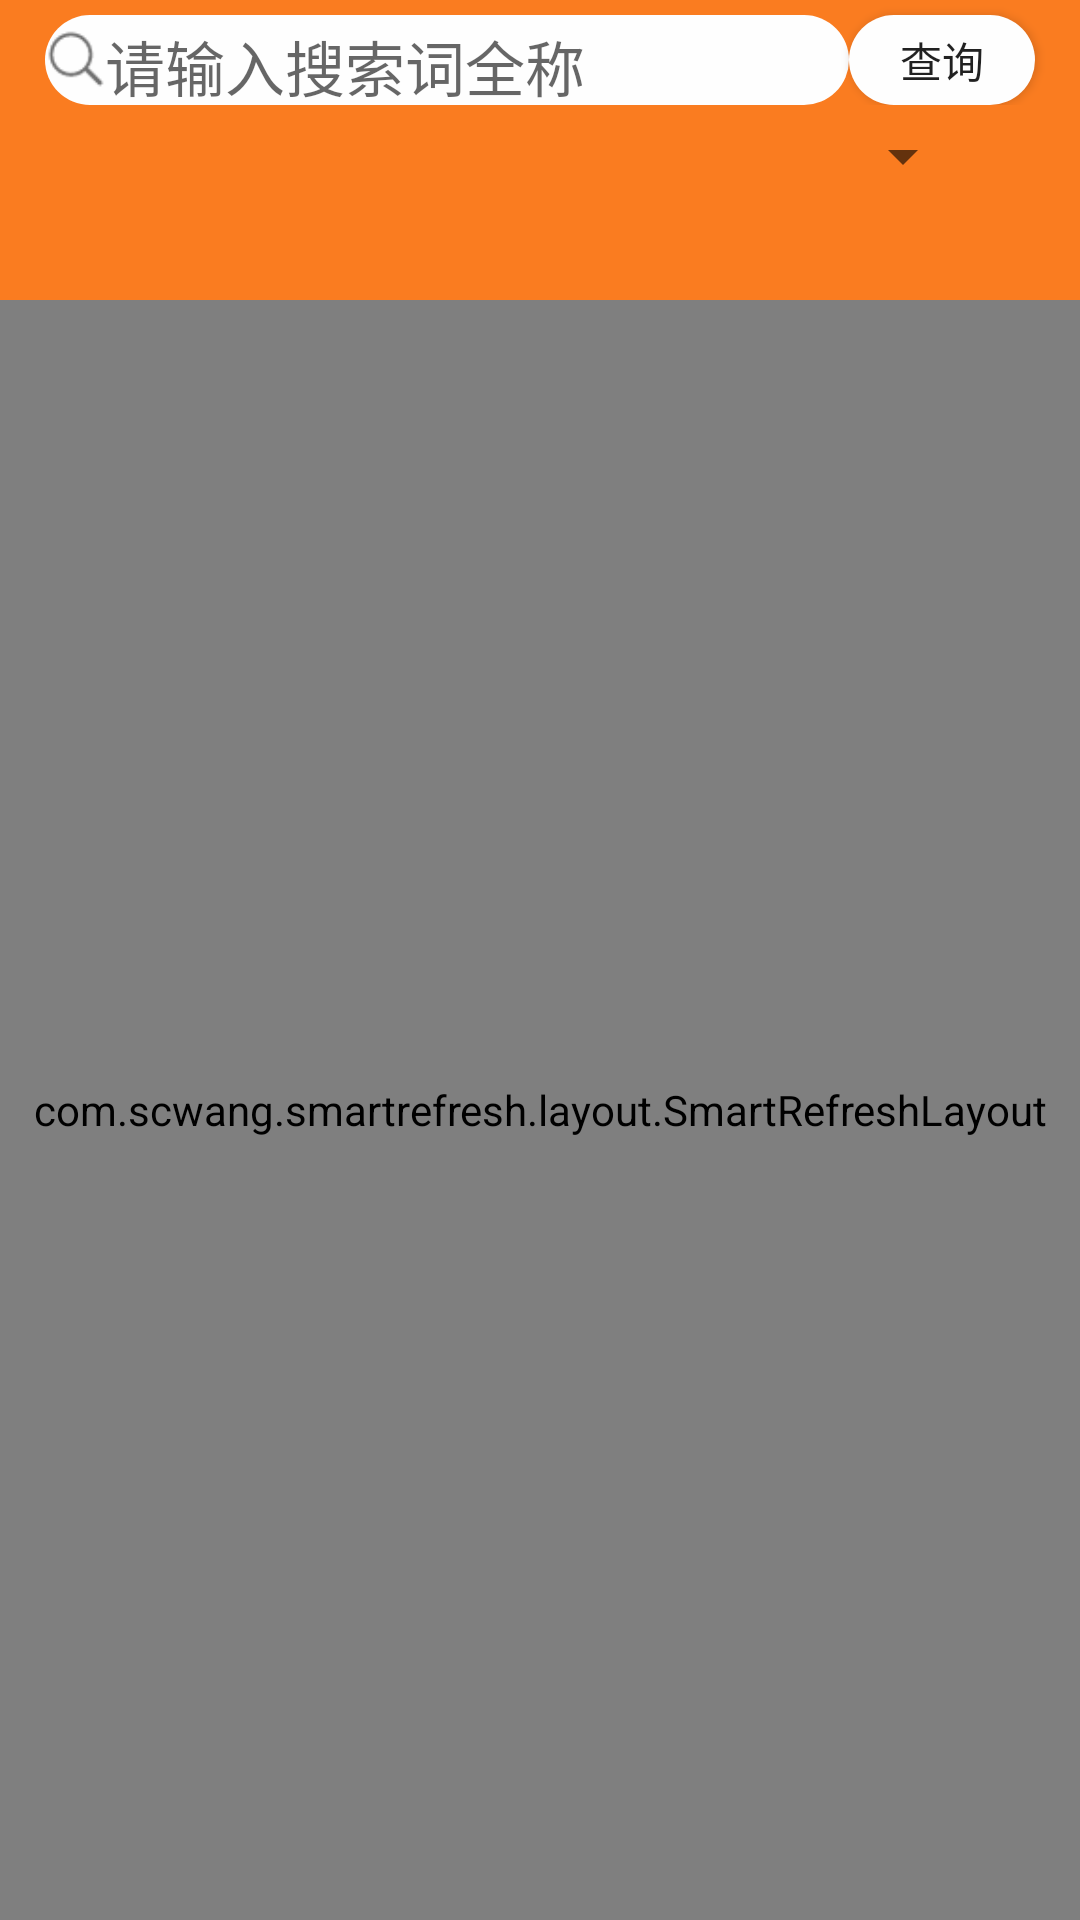

Named icons in this screenshot (1080x1920) and their centers, point (x, y):
search: point (75, 60)
